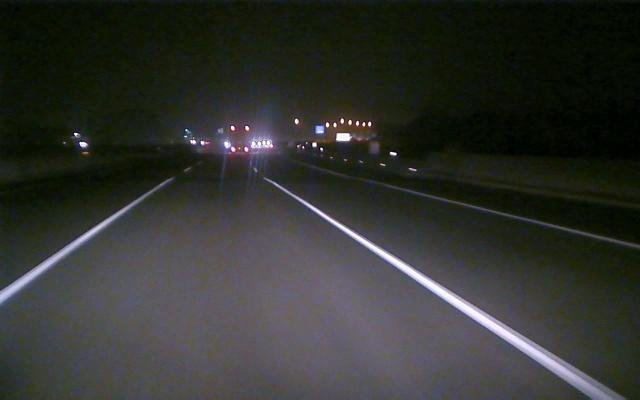lane: (275, 183, 624, 399), (364, 178, 640, 252), (3, 180, 169, 302)
